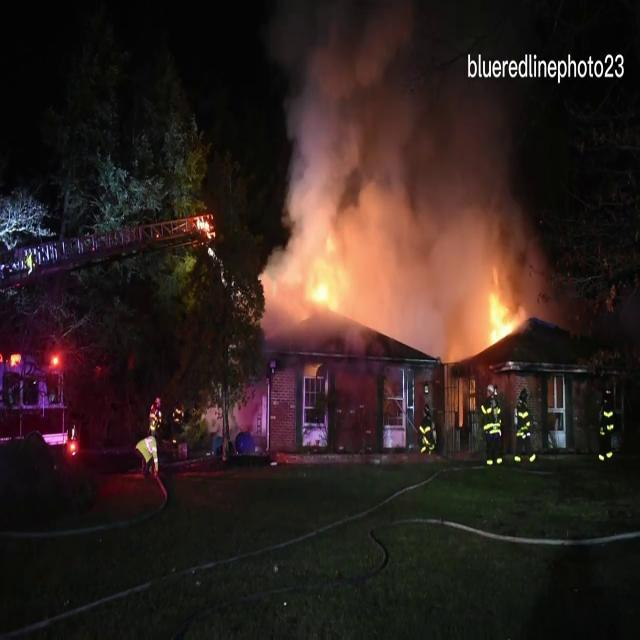Fire: (474, 278, 524, 352)
Smoke: (260, 0, 557, 309)
